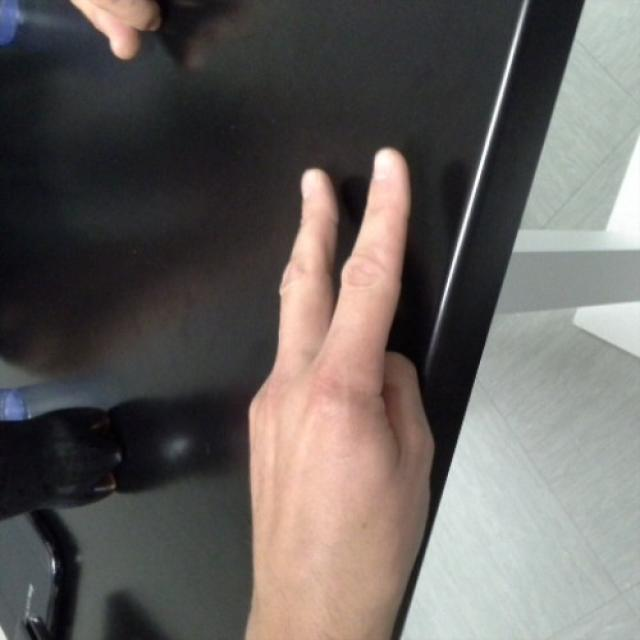scissors: (248, 144, 432, 560)
